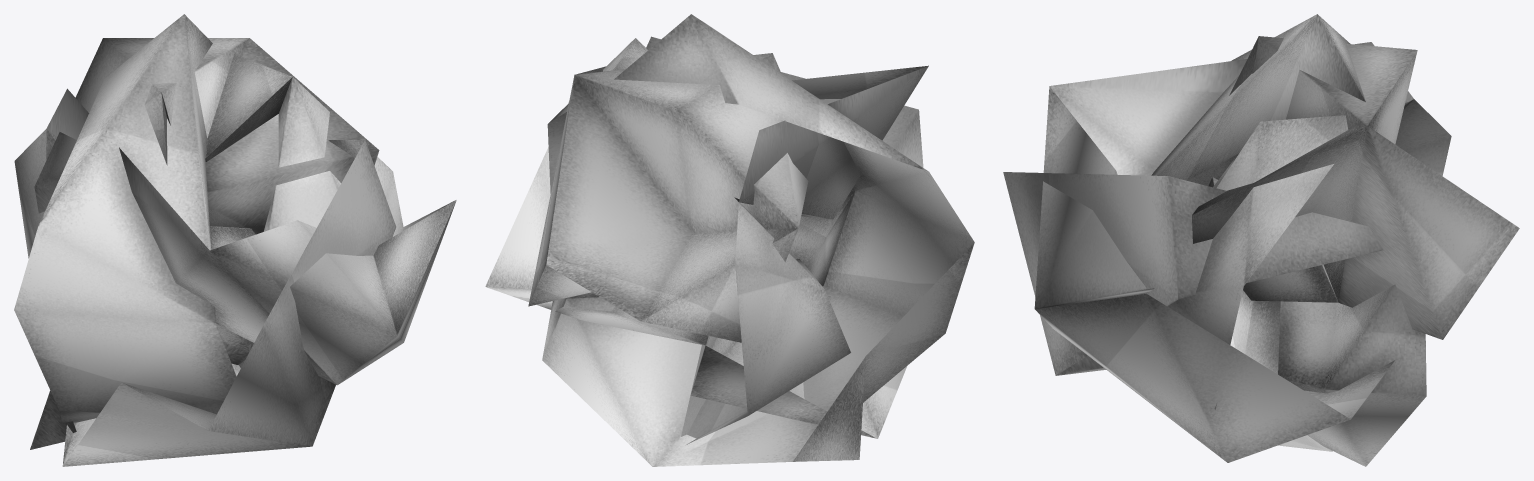
Rendered from paper ball v2.fbx.
The picture shows the model from 3 angles, left to right: view 1: azimuth 30°, elevation 25°; view 2: azimuth 150°, elevation 25°; view 3: azimuth 270°, elevation 25°; orthographic projection. The views are drawn at different scales.
Parts seen in each view (by area): view 1: Plane.016; view 2: Plane.016; view 3: Plane.016.
Part boxes in pixels (x1=…): Plane.016: x1=14, y1=14, x2=456, y2=466; Plane.016: x1=485, y1=14, x2=974, y2=466; Plane.016: x1=1003, y1=14, x2=1519, y2=466.
Size of the model in its own units: 49.69 by 48.69 by 51.17.
1 material, 1 textured.
